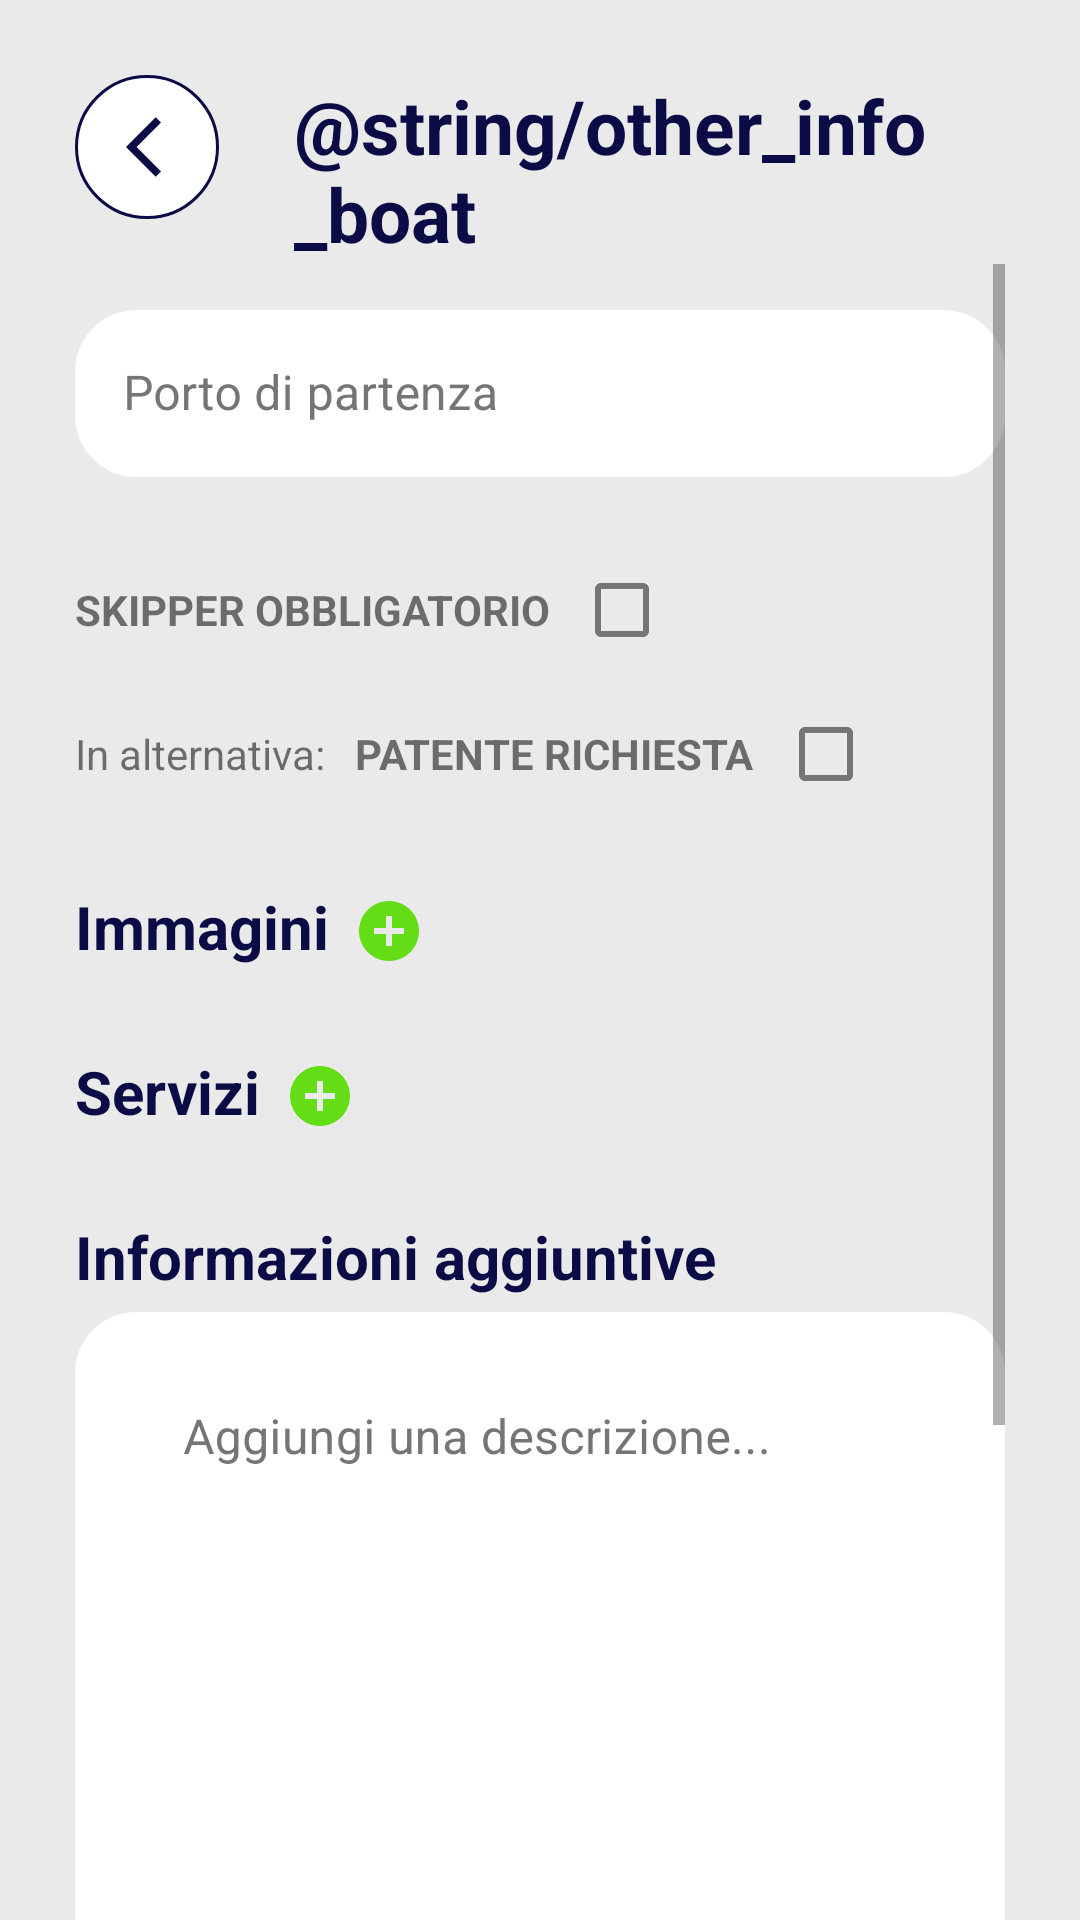

Where icons sit on this 1080 x 1920 app screen, as (x1, y1, x2, y2):
add circle: (359, 901, 419, 961), (290, 1066, 350, 1126)
back: (75, 75, 219, 219)
